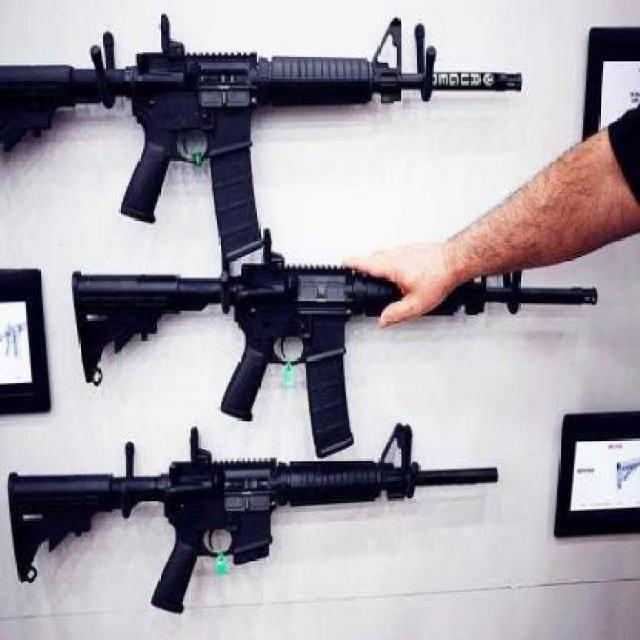weapon: (1, 20, 522, 231), (69, 253, 598, 448), (11, 447, 503, 611)
